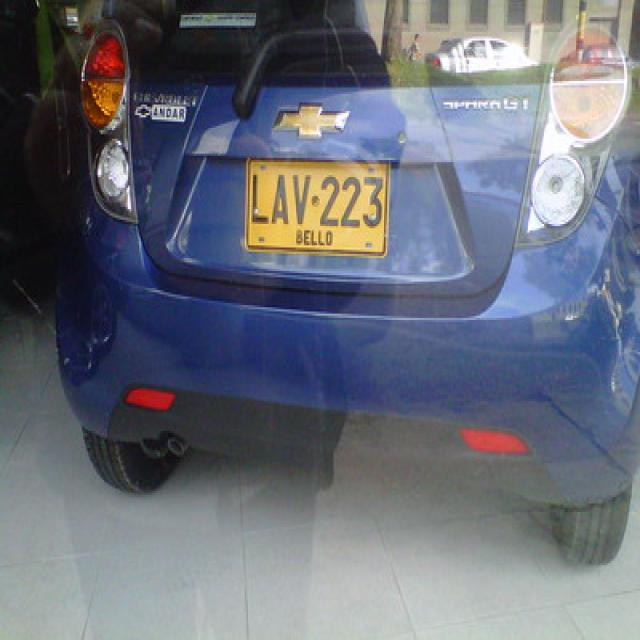placa_carro: (241, 156, 394, 263)
